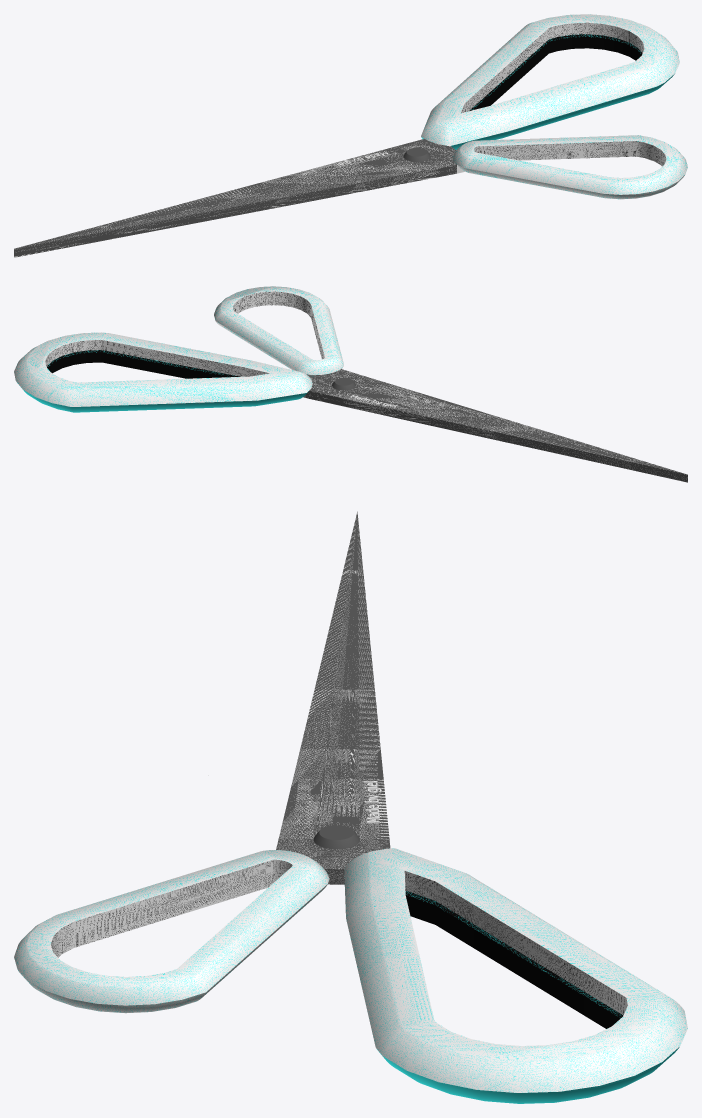
3 renders of one model, top to bottom at view 1: azimuth 30°, elevation 25°; view 2: azimuth 150°, elevation 25°; view 3: azimuth 270°, elevation 25°, orthographic. The views are drawn at different scales.
Visible parts, largest first — view 1: mesh73/mesh73-geometry#mesh73-geometry; view 2: mesh73/mesh73-geometry#mesh73-geometry; view 3: mesh73/mesh73-geometry#mesh73-geometry.
Part boxes in pixels (bbox=[...]): mesh73/mesh73-geometry#mesh73-geometry: bbox=[14, 14, 687, 257]; mesh73/mesh73-geometry#mesh73-geometry: bbox=[14, 286, 687, 482]; mesh73/mesh73-geometry#mesh73-geometry: bbox=[14, 511, 687, 1103].
Size of the model in its own units: 1.49 by 0.1294 by 0.7303.
